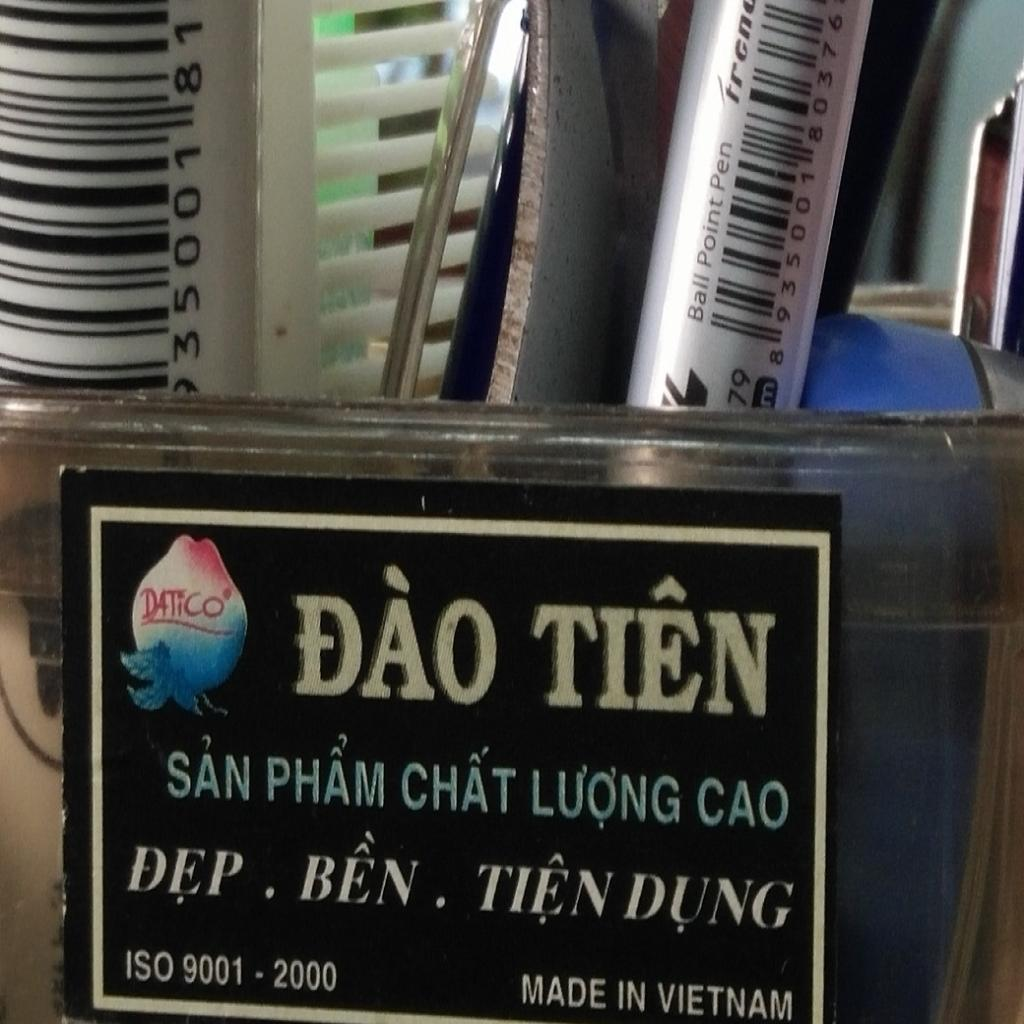text: (528, 568, 781, 724), (291, 554, 502, 712), (616, 870, 804, 942), (471, 846, 619, 930), (298, 826, 428, 911), (531, 763, 683, 835), (265, 730, 388, 813), (399, 742, 520, 819), (122, 840, 248, 910), (170, 143, 205, 362), (772, 168, 819, 328), (165, 731, 253, 806), (803, 9, 847, 147), (696, 773, 792, 835), (712, 4, 756, 121), (520, 970, 610, 1014), (139, 584, 227, 622), (170, 16, 205, 101), (692, 193, 727, 272), (181, 950, 245, 990), (272, 958, 340, 995), (125, 946, 176, 986), (706, 136, 735, 196), (684, 269, 713, 328), (724, 361, 754, 412), (617, 978, 649, 1016), (757, 377, 778, 411), (765, 345, 787, 372)
